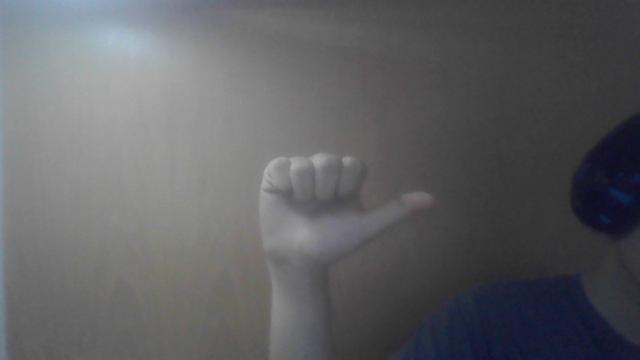left: (252, 146, 443, 274)
